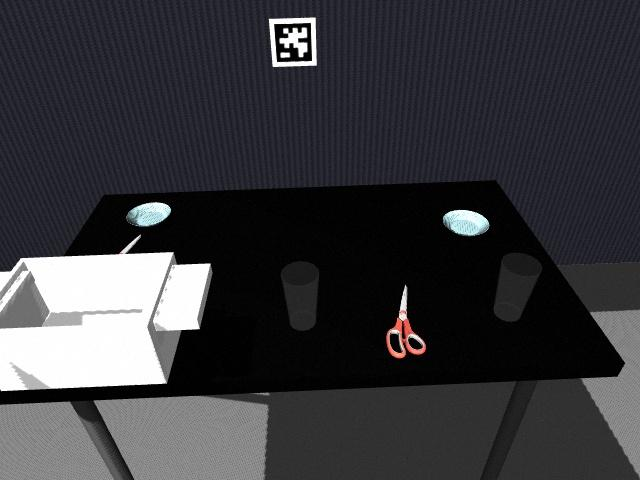cup: (494, 253, 541, 321), (281, 261, 318, 330)
plate: (443, 210, 488, 235), (126, 202, 170, 226)
scissors: (386, 285, 425, 358)
